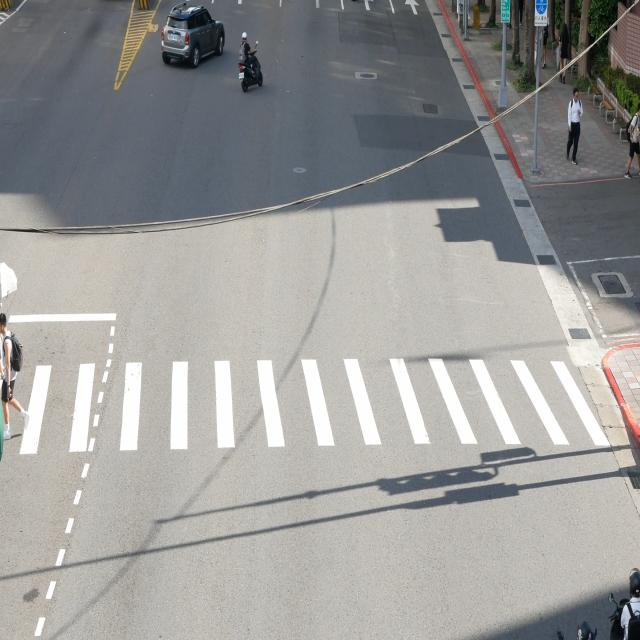pedestrian: (0, 313, 22, 423), (4, 343, 6, 344)
